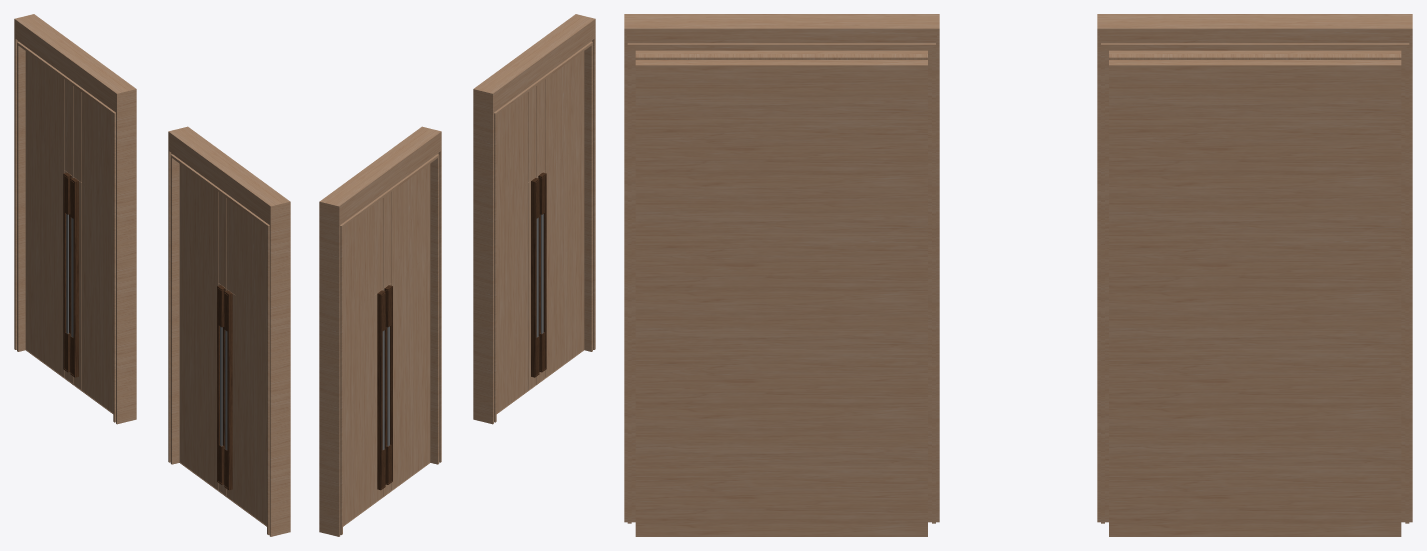
The model's file is CR06_Doors.FBX.
3 views of the same model, side by side, from view 1: azimuth 30°, elevation 25°; view 2: azimuth 150°, elevation 25°; view 3: azimuth 270°, elevation 25° (orthographic). The views are drawn at different scales.
Parts seen in each view (by area): view 1: CR06_Door01, CR06_Door02; view 2: CR06_Door01, CR06_Door02; view 3: CR06_Door01, CR06_Door02.
Part boxes in pixels (x1,y1,x2,y2): CR06_Door01: (14, 14, 136, 424); CR06_Door02: (168, 126, 290, 536); CR06_Door01: (319, 126, 441, 536); CR06_Door02: (473, 14, 595, 424); CR06_Door01: (1097, 14, 1412, 536); CR06_Door02: (624, 14, 939, 536).
Size of the model in its own units: 200 by 3200 by 4500.
